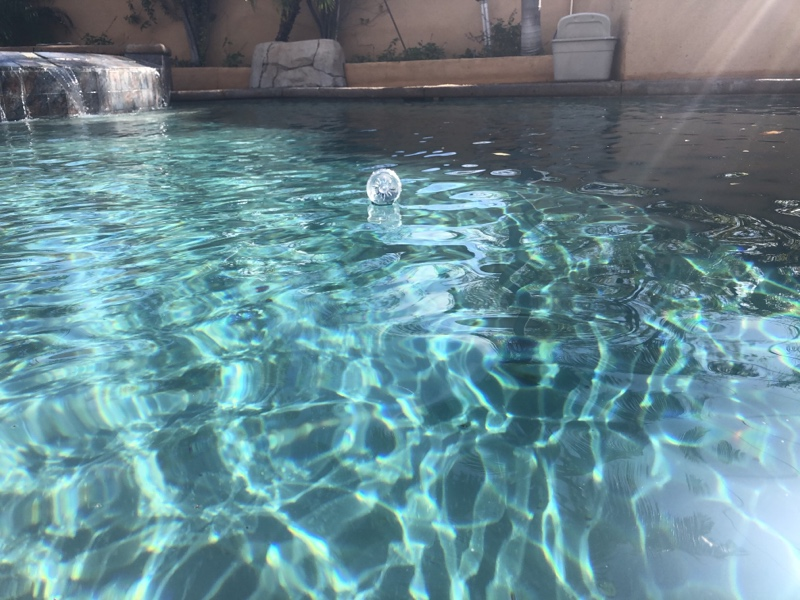Plastic Bottle: (365, 167, 403, 205)
